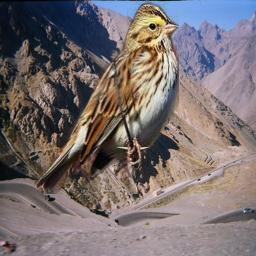Sparrow: (34, 1, 179, 194)
